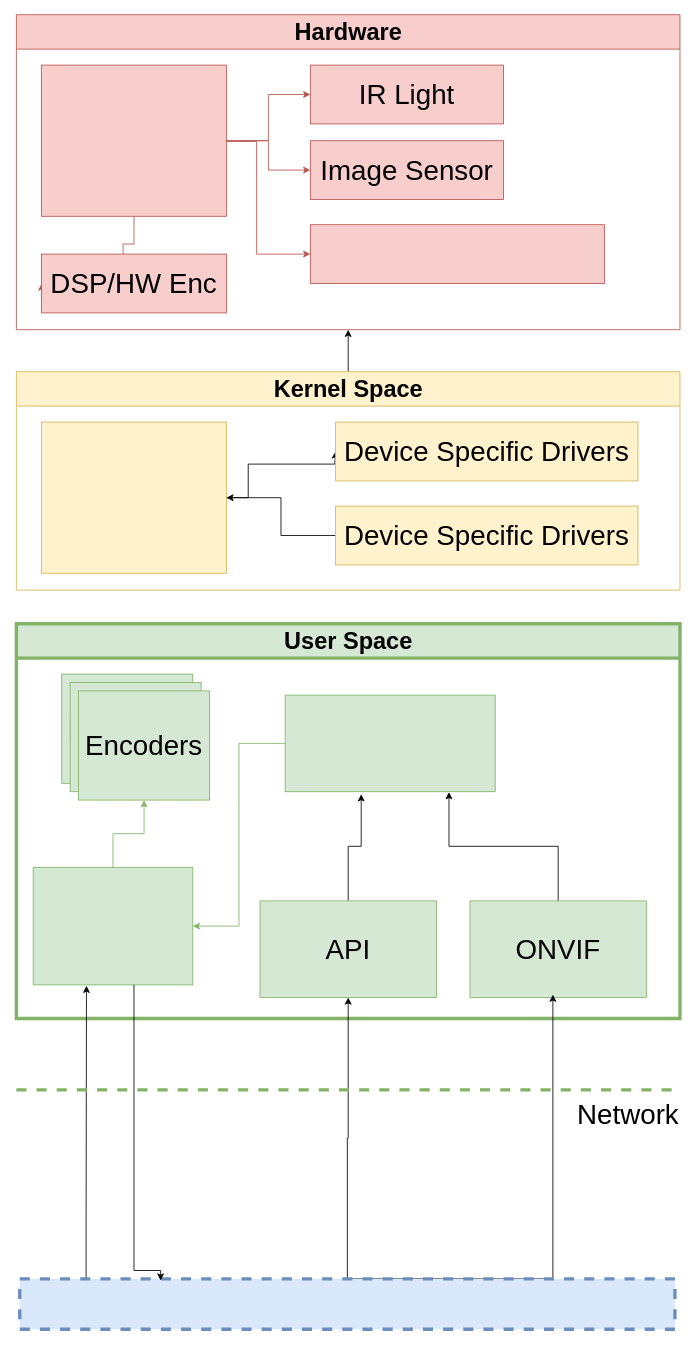
The diagram is 696 pixels wide and 1346 high, and some of its shapes have lost their labels. Here are the shapes that lost their labels. From the top down, the centre of each, then its label:
(133,140): SoC
(457,254): Other Hardware
(133,497): Linux Core
(389,743): Device Control Server
(112,925): Stream Server
(347,1304): CLOUD
